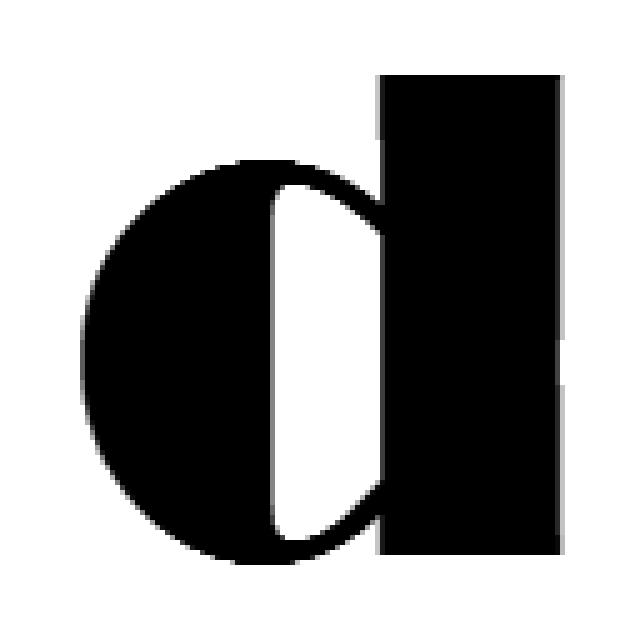D: (86, 70, 570, 554)
